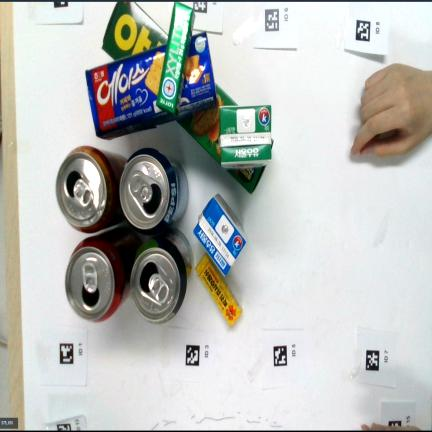can_coke_decaf: (56, 146, 126, 233)
can_coke_zero: (66, 225, 142, 322)
can_pepsi: (120, 148, 188, 235)
can_pepsi_zero: (130, 229, 193, 323)
cracker_ace: (85, 31, 215, 141)
cracker_vege: (177, 78, 236, 163), (102, 1, 169, 62), (221, 166, 263, 196)
gum_green: (156, 3, 194, 114)
gum_yellow: (195, 255, 242, 326)
milk_blue: (194, 194, 246, 275)
milk_green: (219, 105, 272, 169)
